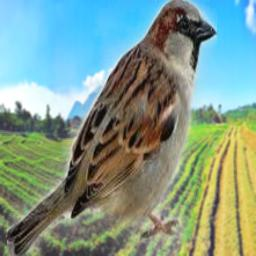Sparrow: (7, 0, 217, 256)
